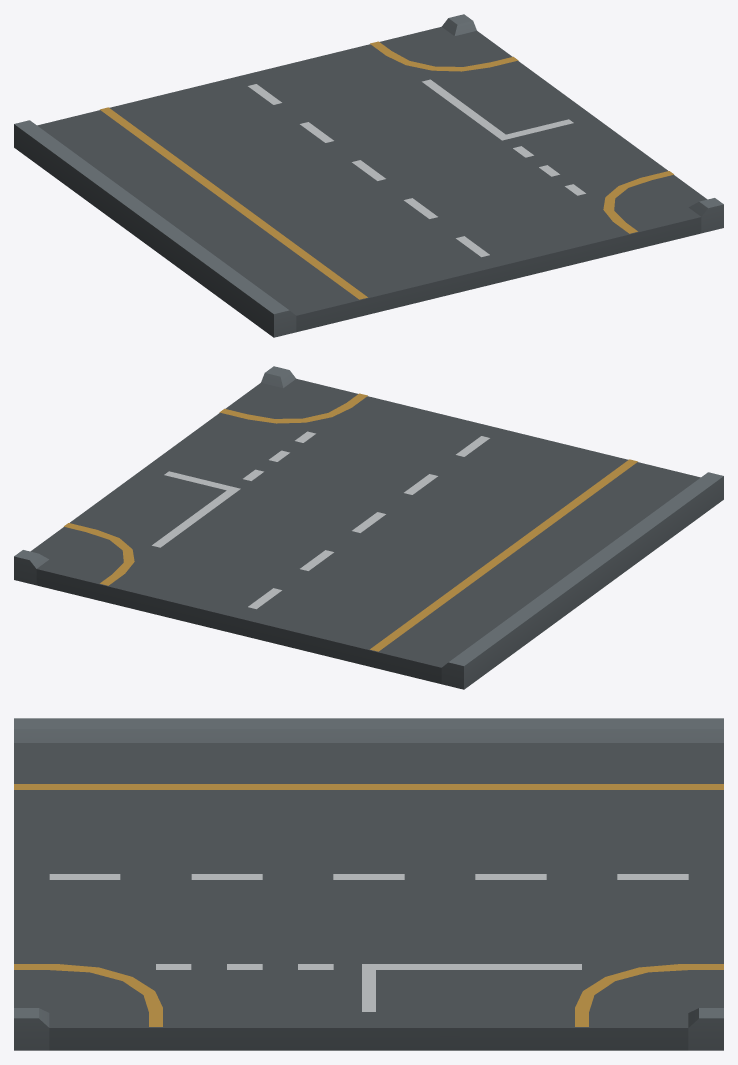
The model's file is city-road-tsplit.glb.
3 renders of one model, top to bottom at view 1: azimuth 30°, elevation 25°; view 2: azimuth 150°, elevation 25°; view 3: azimuth 270°, elevation 25°, orthographic. The views are drawn at different scales.
Parts seen in each view (by area): view 1: road_tsplit; view 2: road_tsplit; view 3: road_tsplit.
Boxes of the visible parts, x1,y1,x2,y2 form: road_tsplit: (14,14,723,337); road_tsplit: (14,366,723,689); road_tsplit: (14,718,723,1050).
Size of the model in its own units: 2 by 0.1 by 2.
